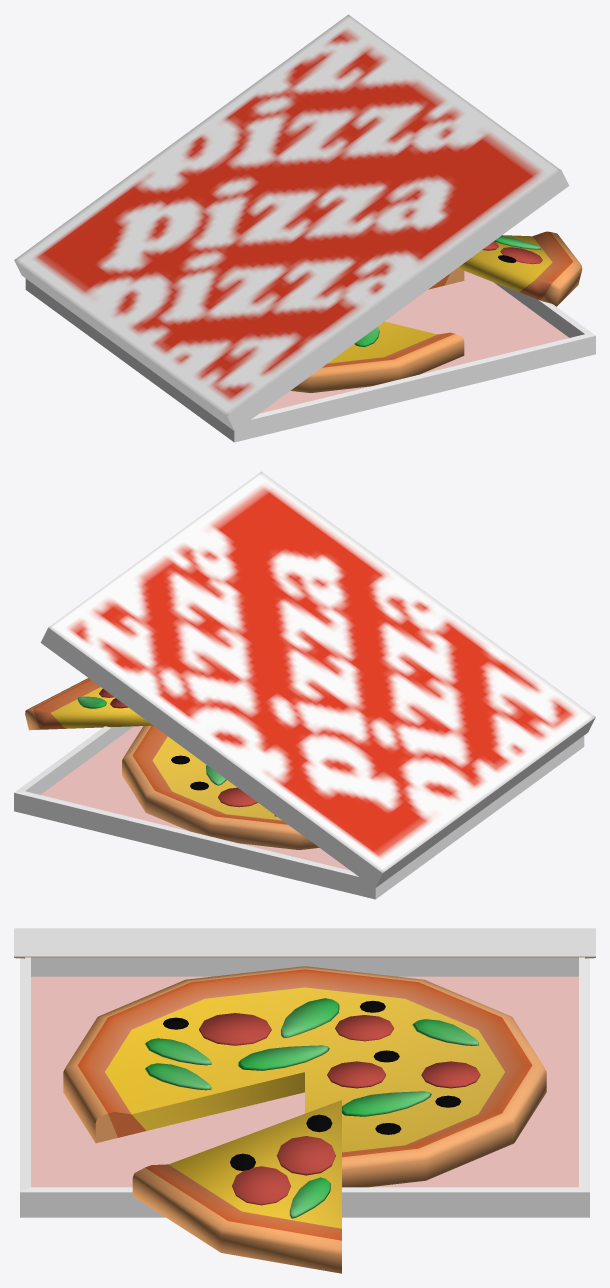
The model's file is Pizza.fbx.
3 renders of one model, top to bottom at view 1: azimuth 30°, elevation 25°; view 2: azimuth 150°, elevation 25°; view 3: azimuth 270°, elevation 25°, orthographic. The views are drawn at different scales.
Visible parts, largest first — view 1: Pizza; view 2: Pizza; view 3: Pizza.
Part boxes in pixels (x1,y1,x2,y2): Pizza: [14, 14, 595, 442]; Pizza: [14, 471, 595, 899]; Pizza: [14, 928, 595, 1273].
Size of the model in its own units: 0.6029 by 0.2534 by 0.494.
